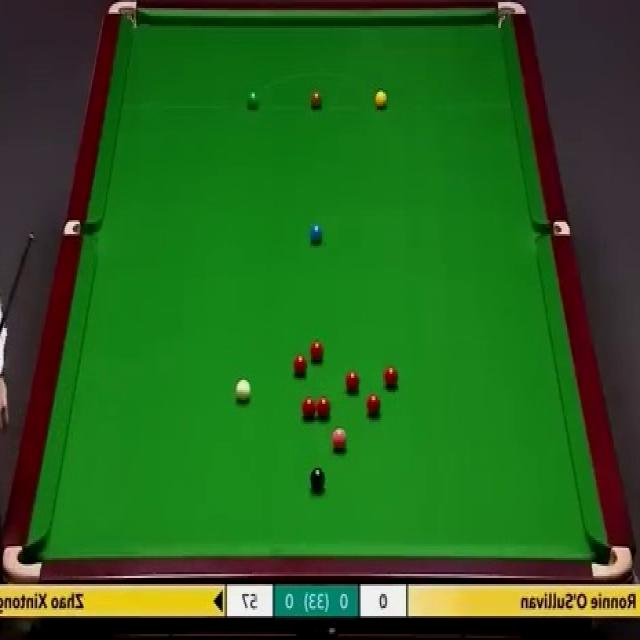black-ball: (309, 467, 325, 493)
blue-ball: (310, 224, 323, 242)
brown-ball: (310, 92, 323, 109)
green-ball: (244, 88, 258, 112)
pink-ball: (332, 424, 348, 451)
red-ball: (364, 392, 382, 420), (292, 352, 308, 379), (383, 365, 399, 392), (315, 396, 331, 421), (308, 340, 326, 360), (302, 396, 315, 421), (346, 371, 360, 394)
white-ball: (235, 380, 252, 402)
yellow-ball: (374, 89, 388, 110)
